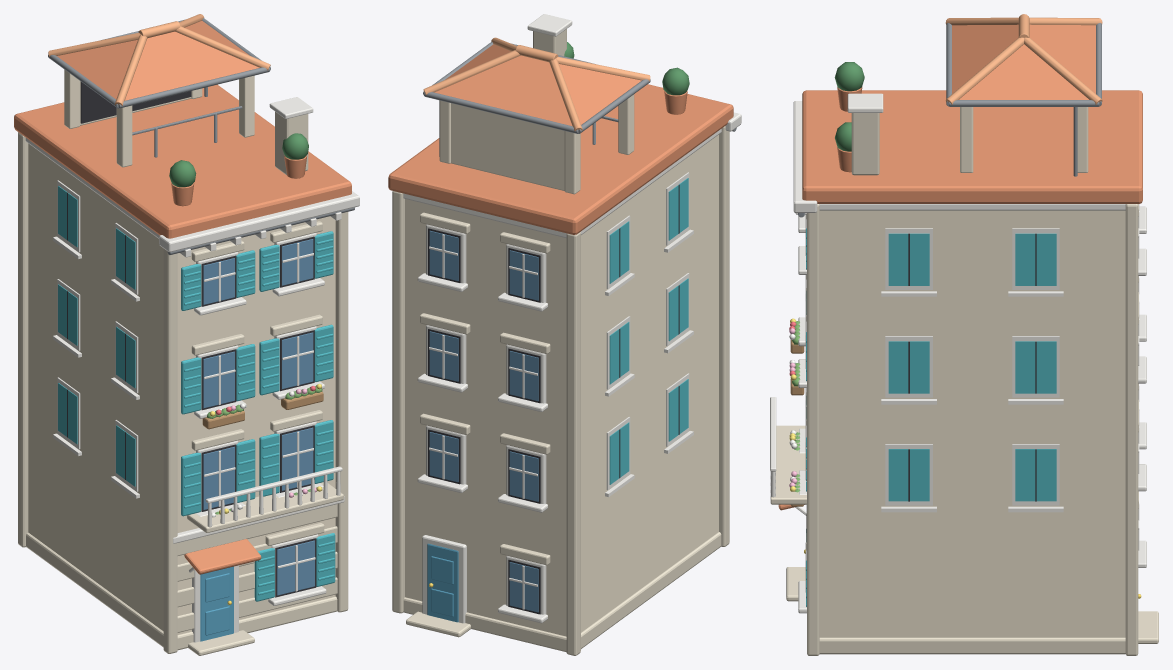
Rendered from terrace_e.fbx.
The picture shows the model from 3 angles, left to right: view 1: azimuth 30°, elevation 25°; view 2: azimuth 150°, elevation 25°; view 3: azimuth 270°, elevation 25°; orthographic projection. The views are drawn at different scales.
Visible parts, largest first — view 1: Visual; view 2: Visual; view 3: Visual.
Part boxes in pixels (x1,y1,x2,y2): Visual: [14, 14, 359, 655]; Visual: [388, 14, 741, 655]; Visual: [770, 14, 1158, 655].
Size of what is drawn, in the model's own units: 610 by 1633 by 981.
